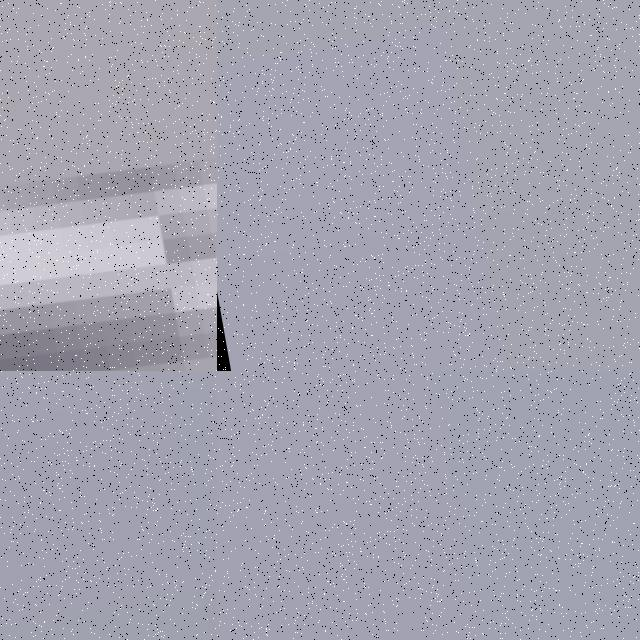drone: (0, 0, 217, 371)
